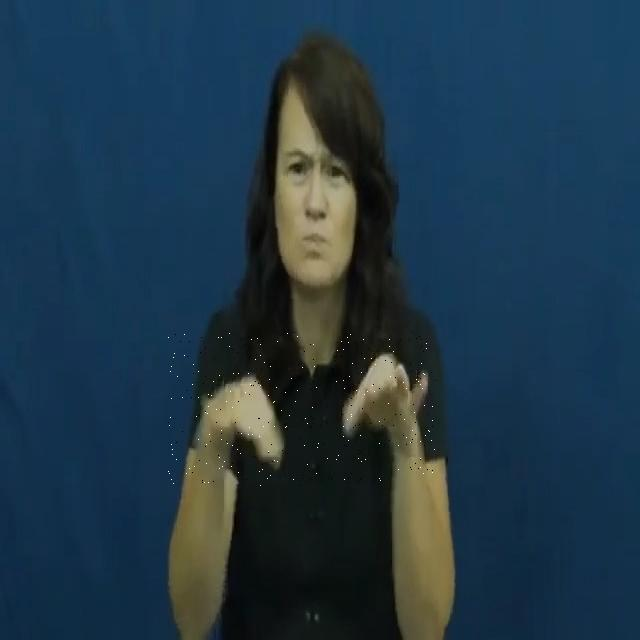urgent: (168, 332, 436, 486)
